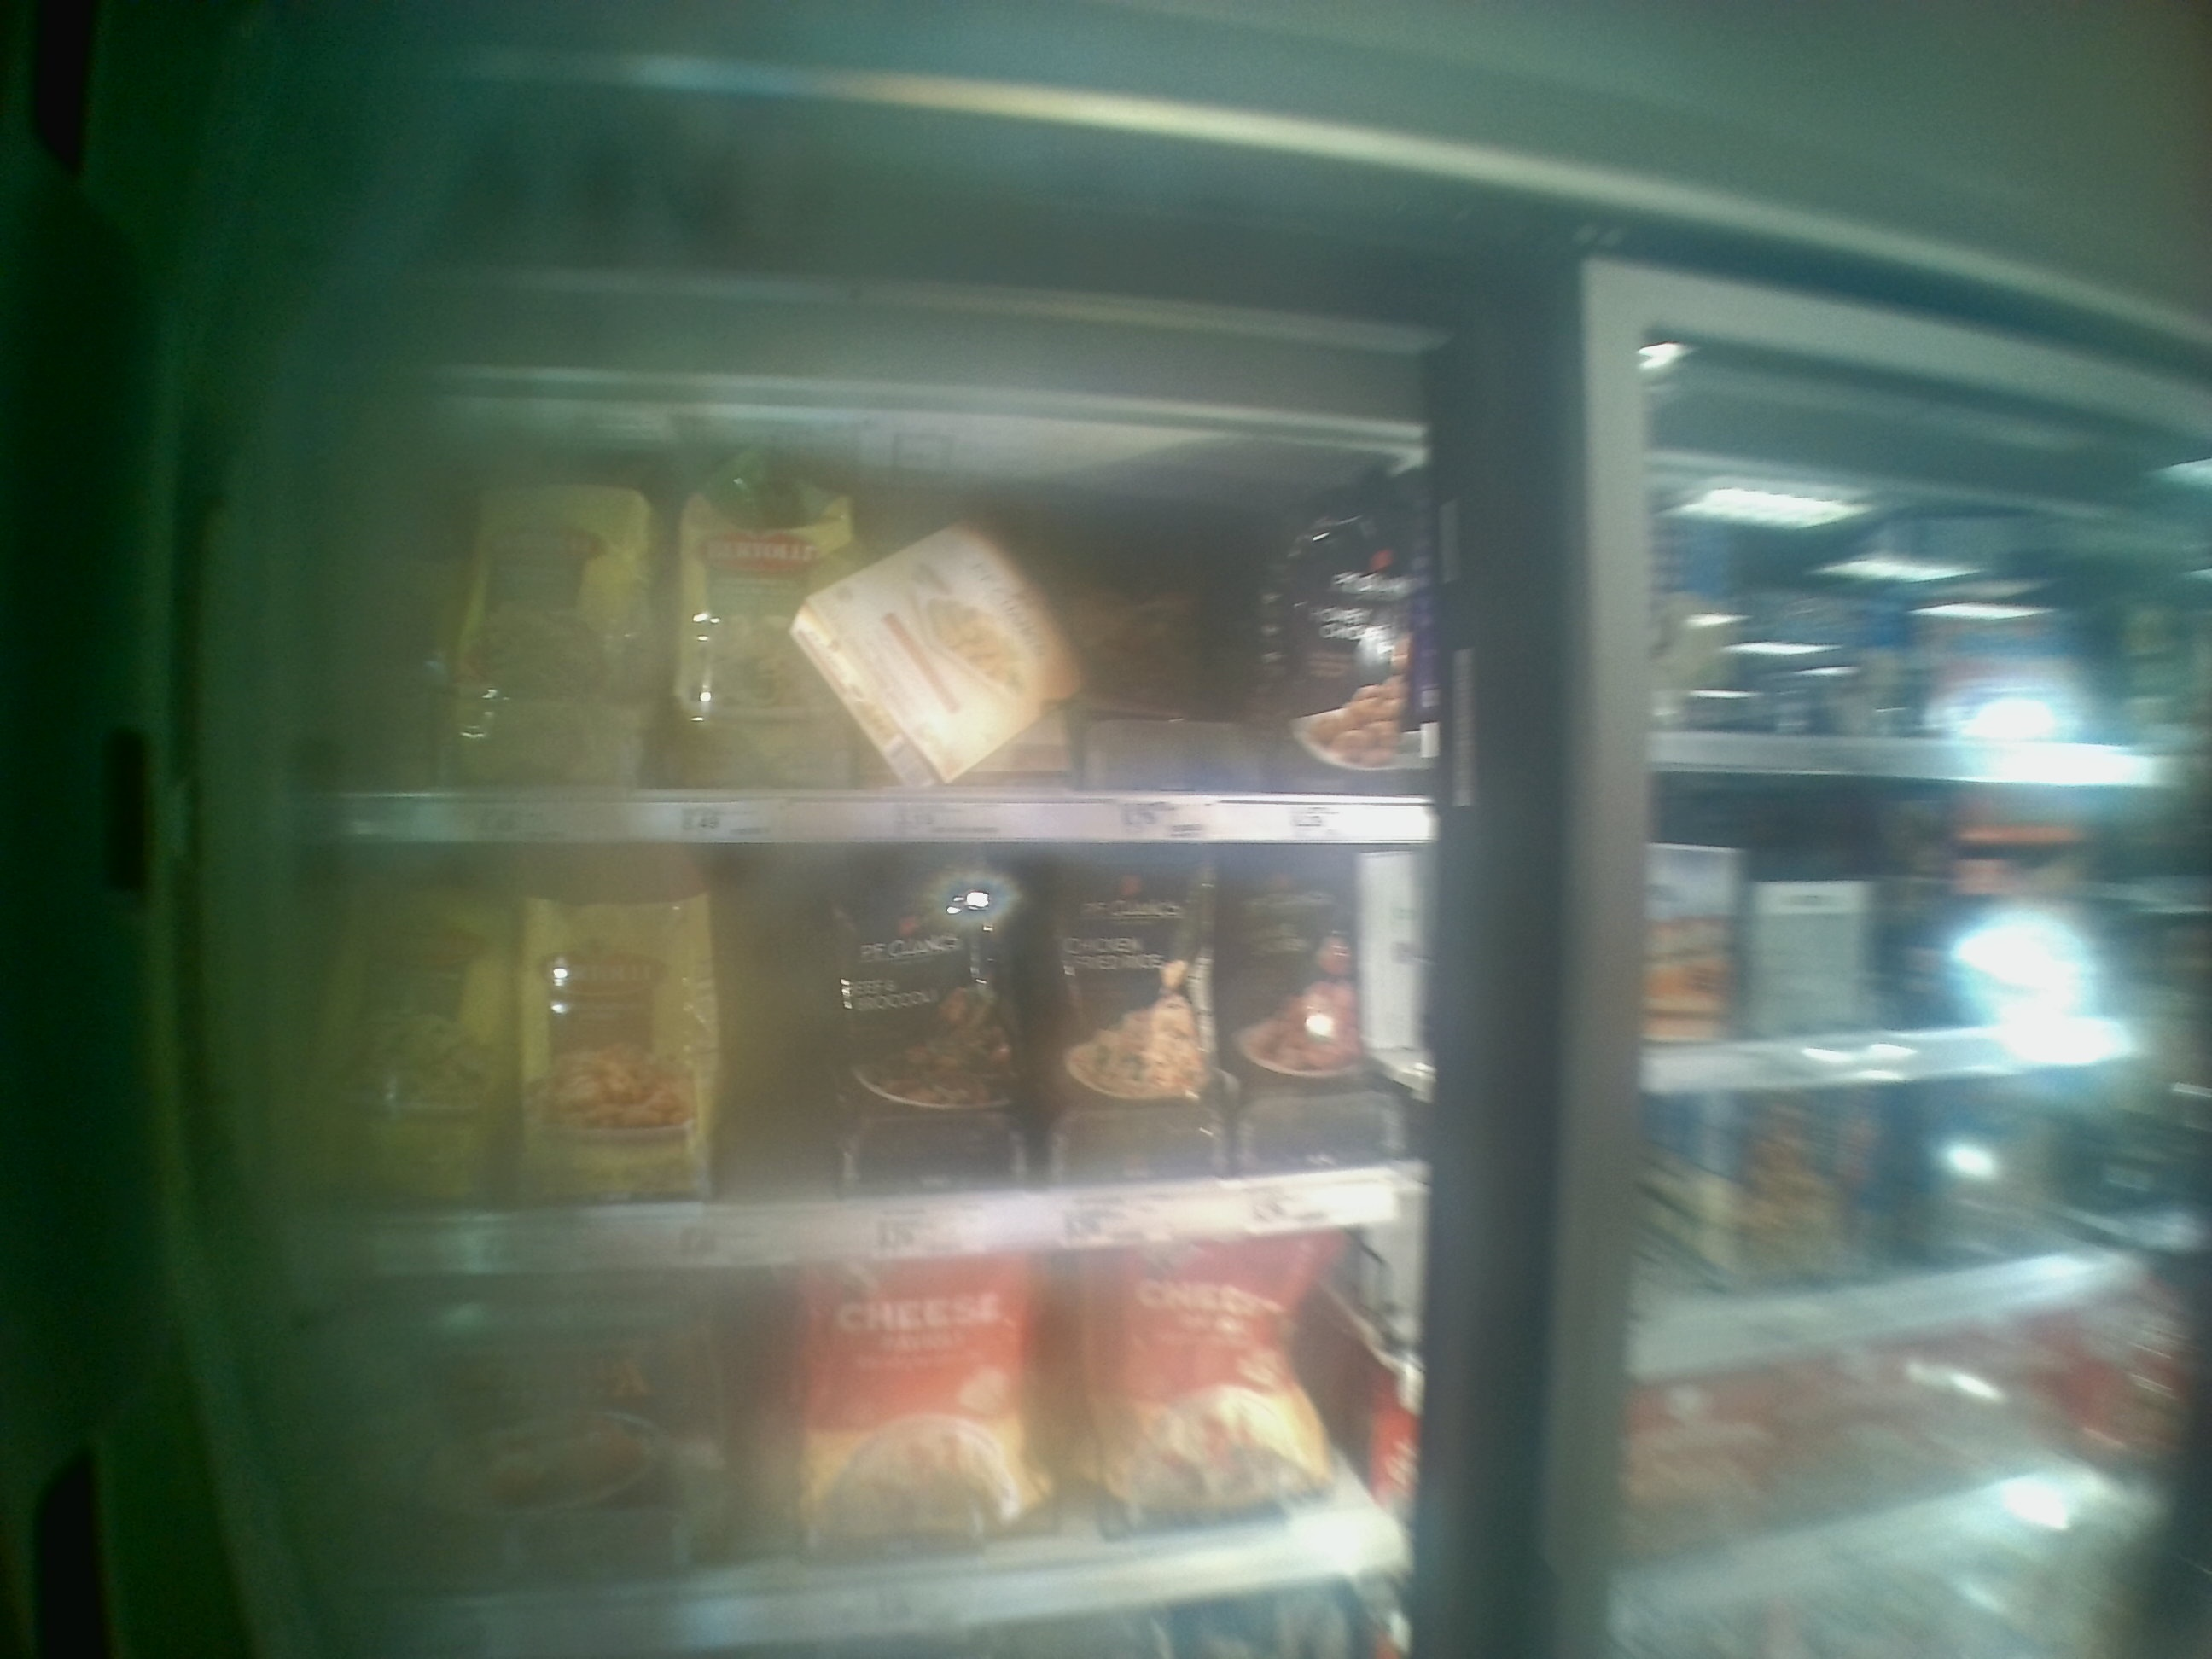shelf: (275, 824, 1404, 1241)
